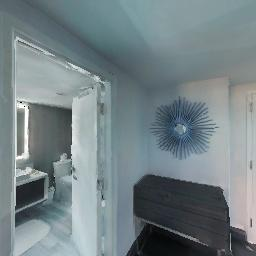door-frame: (0, 36, 116, 256)
